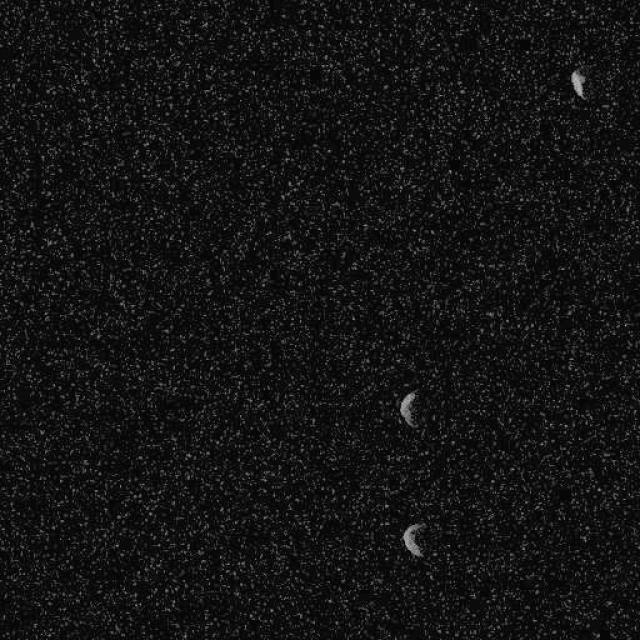D2: (402, 521, 426, 559), (398, 389, 420, 429), (568, 68, 588, 100)
